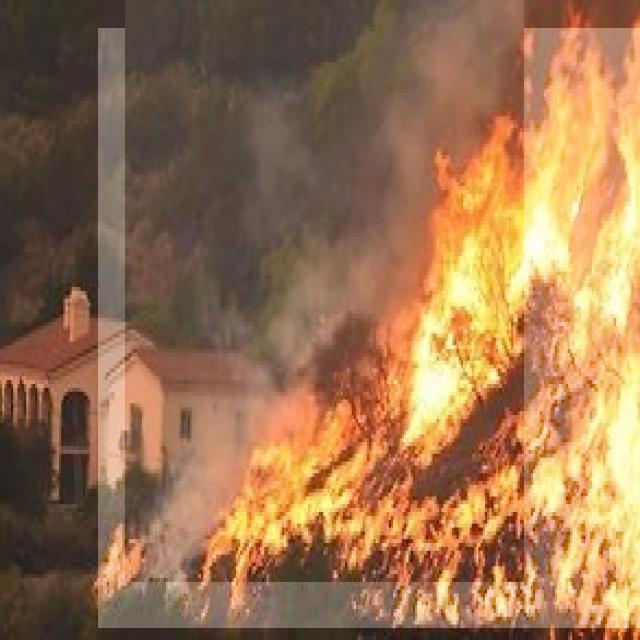Fire: (98, 28, 640, 628)
Smoke: (125, 0, 524, 582)
